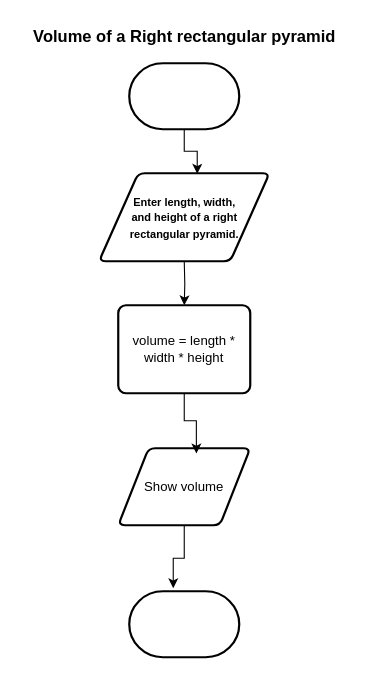
Image size: 367x677. Some labels were removed from this diagram. Each missing label, with the centre of its shape:
"Start" goes at point 184,96.
"Stop" goes at point 184,624.
